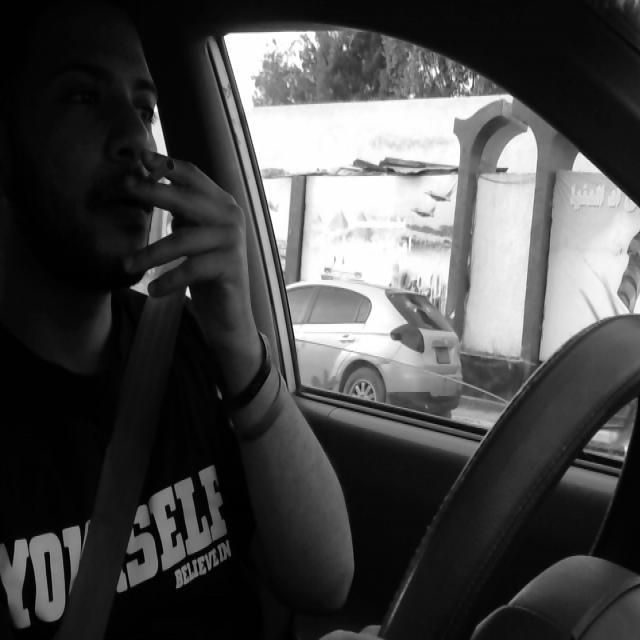smoking: (119, 156, 184, 222)
